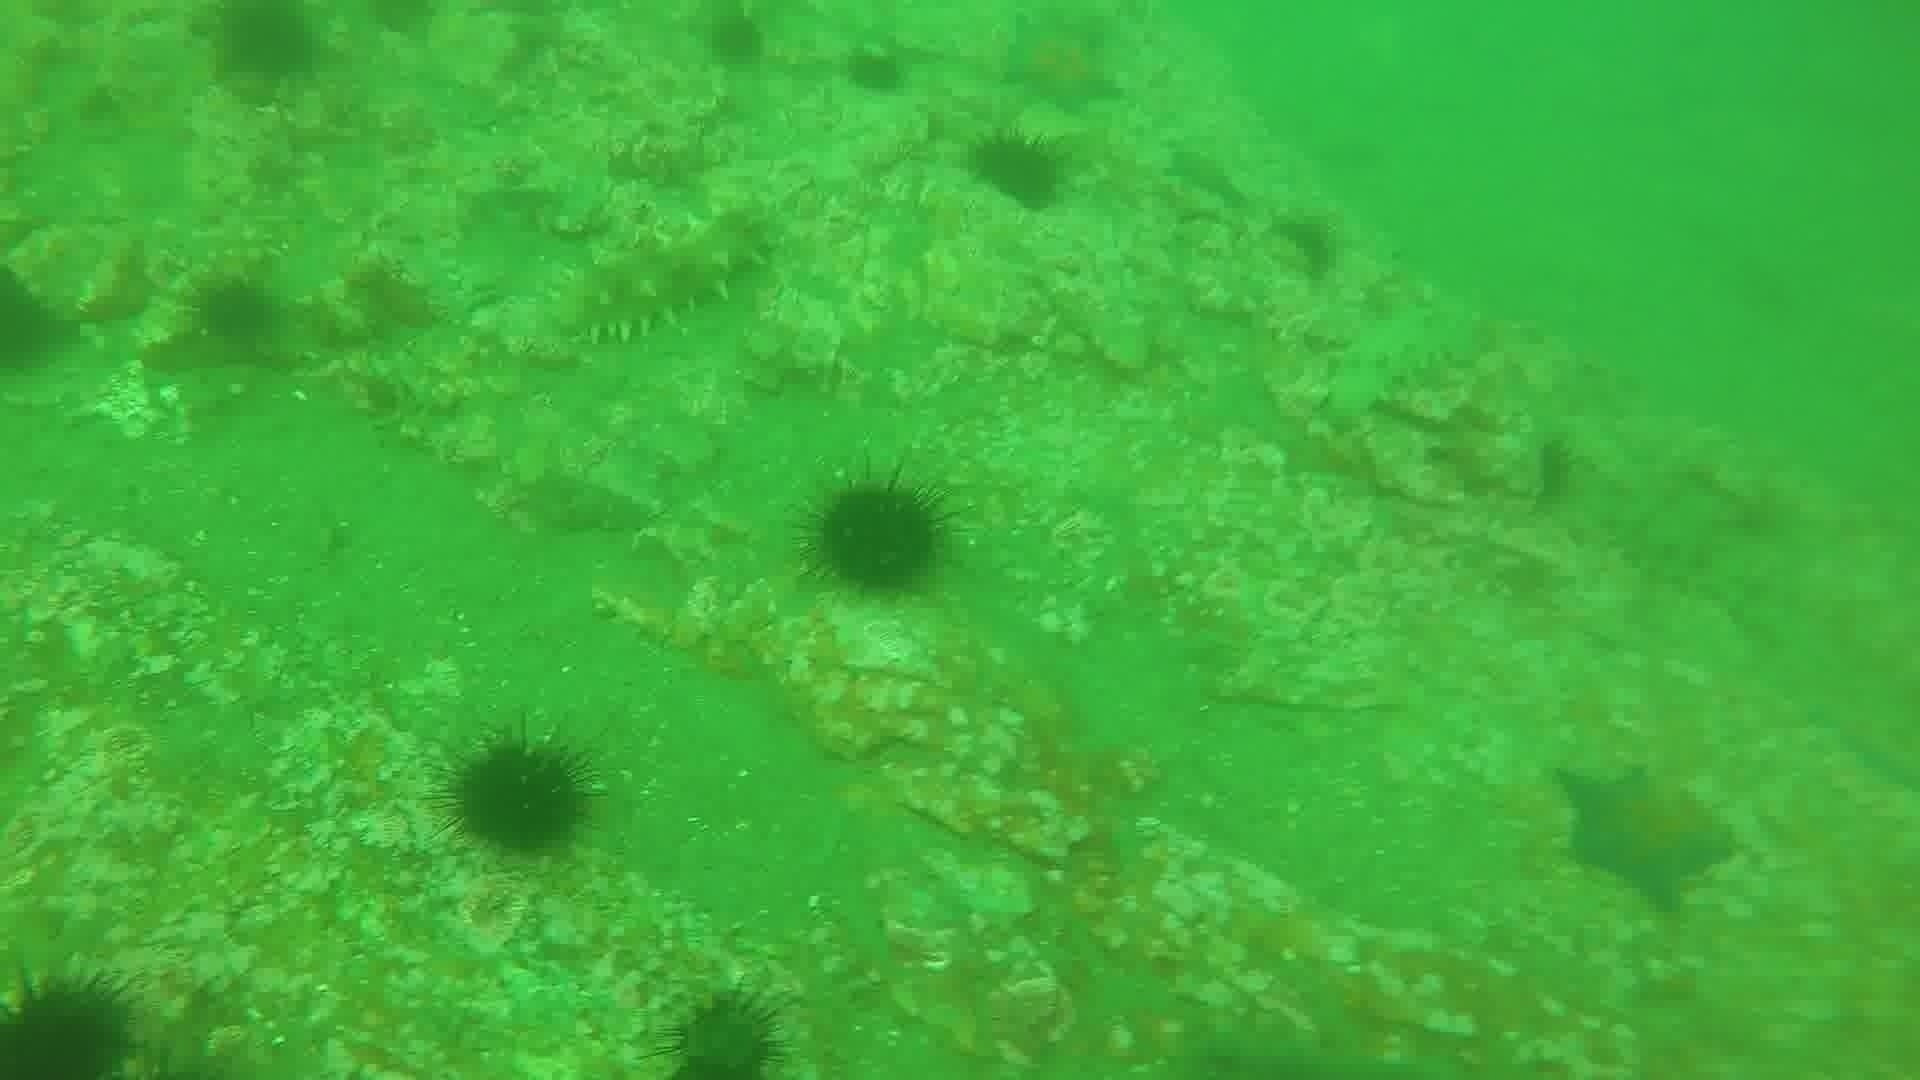echinus: (435, 731, 600, 861), (798, 471, 953, 603), (1, 967, 142, 1077), (659, 986, 794, 1075), (200, 3, 324, 90), (963, 127, 1071, 215), (187, 272, 284, 355), (1, 265, 62, 378), (1267, 206, 1345, 284), (698, 7, 774, 75), (839, 41, 913, 102)
holothurian: (545, 200, 783, 349), (1275, 284, 1513, 433)
starfish: (1551, 760, 1739, 913), (994, 13, 1127, 117), (1160, 138, 1253, 211)
